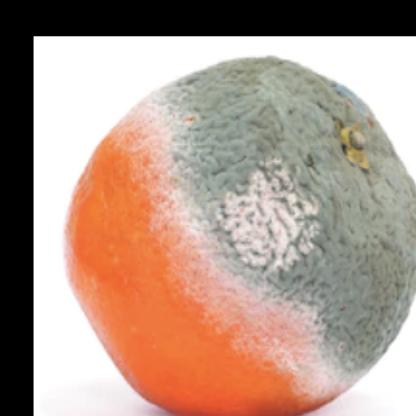rotten: (62, 57, 416, 416)
